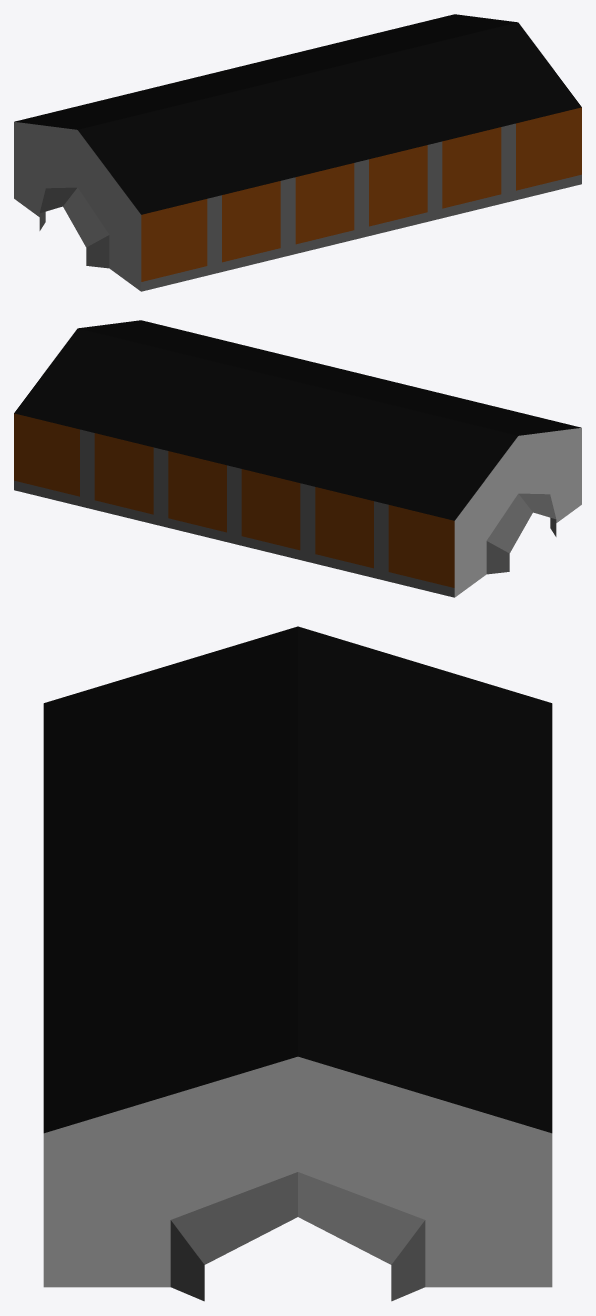
Rendered from Training_Stadium.fbx.
The picture shows the model from 3 angles, top to bottom: view 1: azimuth 30°, elevation 25°; view 2: azimuth 150°, elevation 25°; view 3: azimuth 270°, elevation 25°; orthographic projection. The views are drawn at different scales.
Parts seen in each view (by area): view 1: Stadium; view 2: Stadium; view 3: Stadium.
Part boxes in pixels (box(x1,y1,x2,y2)): Stadium: box(14, 14, 581, 291); Stadium: box(14, 320, 581, 597); Stadium: box(43, 626, 552, 1301).
Size of the model in its own units: 6400 by 1500 by 3000.
